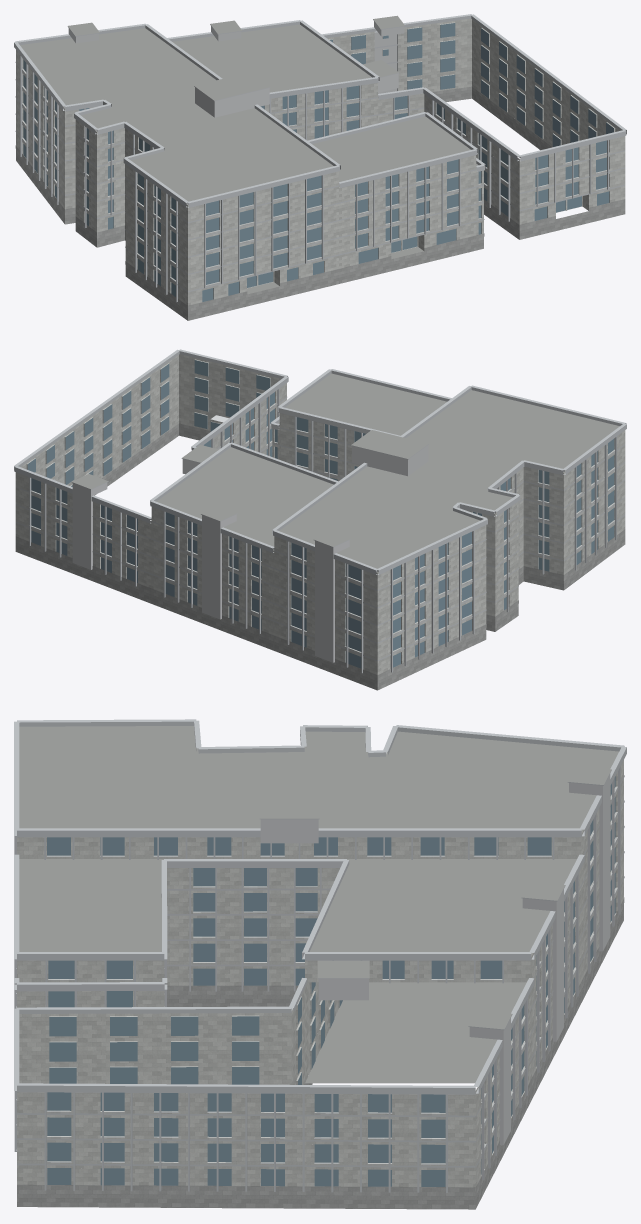
The picture shows the model from 3 angles, top to bottom: view 1: azimuth 30°, elevation 25°; view 2: azimuth 150°, elevation 25°; view 3: azimuth 270°, elevation 25°; orthographic projection. The views are drawn at different scales.
Parts seen in each view (by area): view 1: ibsKaistE22__wall, ibsKaistE22__roof, ibsKaistE22__trim, ibsKaistE22__glass, ibsKaistE22__base, ibsKaistE22__wall2; view 2: ibsKaistE22__wall, ibsKaistE22__roof, ibsKaistE22__trim, ibsKaistE22__glass, ibsKaistE22__base, ibsKaistE22__wall2; view 3: ibsKaistE22__roof, ibsKaistE22__wall, ibsKaistE22__trim, ibsKaistE22__glass, ibsKaistE22__base, ibsKaistE22__wall2.
Part boxes in pixels (box(x1,y1,x2,y2)): ibsKaistE22__wall: box(16, 18, 625, 308); ibsKaistE22__roof: box(20, 15, 478, 294); ibsKaistE22__trim: box(14, 14, 626, 302); ibsKaistE22__glass: box(23, 23, 613, 301); ibsKaistE22__base: box(15, 86, 625, 320); ibsKaistE22__wall2: box(68, 21, 404, 117); ibsKaistE22__wall: box(15, 354, 625, 677); ibsKaistE22__roof: box(72, 373, 619, 572); ibsKaistE22__trim: box(14, 349, 626, 673); ibsKaistE22__glass: box(27, 360, 614, 668); ibsKaistE22__base: box(15, 423, 625, 690); ibsKaistE22__wall2: box(72, 445, 428, 662); ibsKaistE22__roof: box(19, 726, 618, 1083); ibsKaistE22__wall: box(17, 760, 623, 1191); ibsKaistE22__trim: box(14, 719, 626, 1192); ibsKaistE22__glass: box(47, 776, 615, 1186); ibsKaistE22__base: box(17, 897, 624, 1209); ibsKaistE22__wall2: box(260, 774, 610, 1145).
Size of the model in its own units: 97.28 by 27.7 by 79.23.
8 materials, 2 textured.
